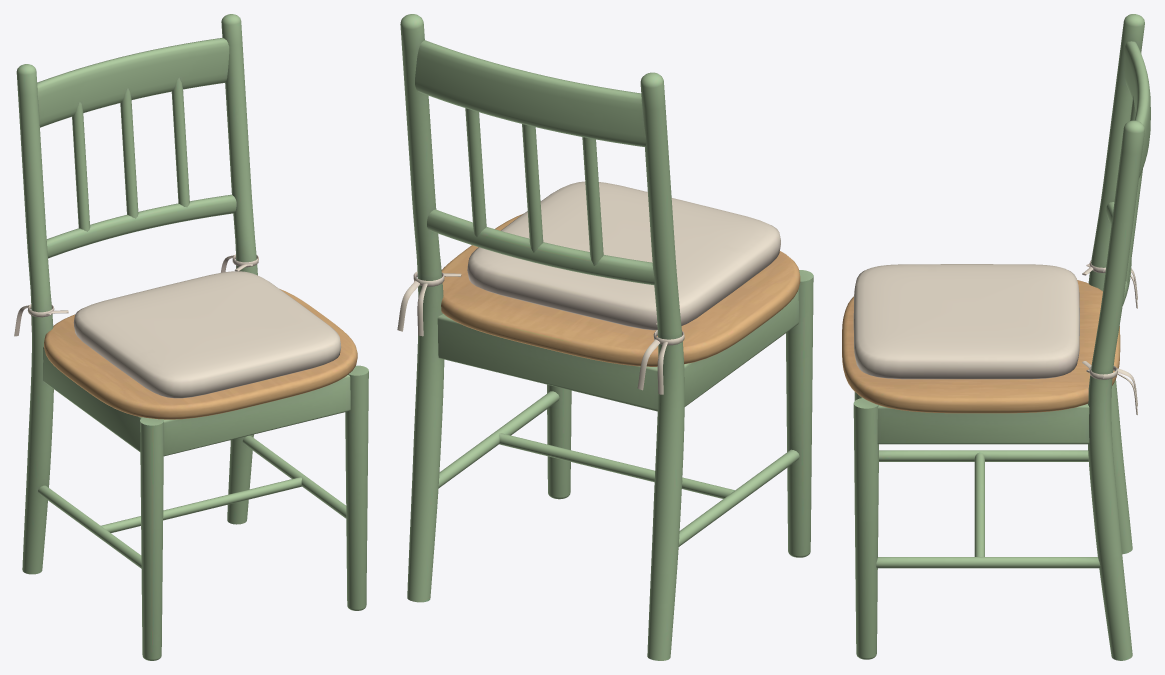
File: dining-chair.glb
The picture shows the model from 3 angles, left to right: view 1: azimuth 30°, elevation 25°; view 2: azimuth 150°, elevation 25°; view 3: azimuth 270°, elevation 25°; orthographic projection. The views are drawn at different scales.
Visible parts, largest first — view 1: dining-chair_body; view 2: dining-chair_body; view 3: dining-chair_body.
Boxes of the visible parts, x1,y1,x2,y2 form: dining-chair_body: [14, 14, 368, 660]; dining-chair_body: [397, 14, 813, 660]; dining-chair_body: [842, 14, 1150, 660].
Size of the model in its own units: 0.47 by 0.9119 by 0.4776.
Materials: 1 (1 with a texture image).
